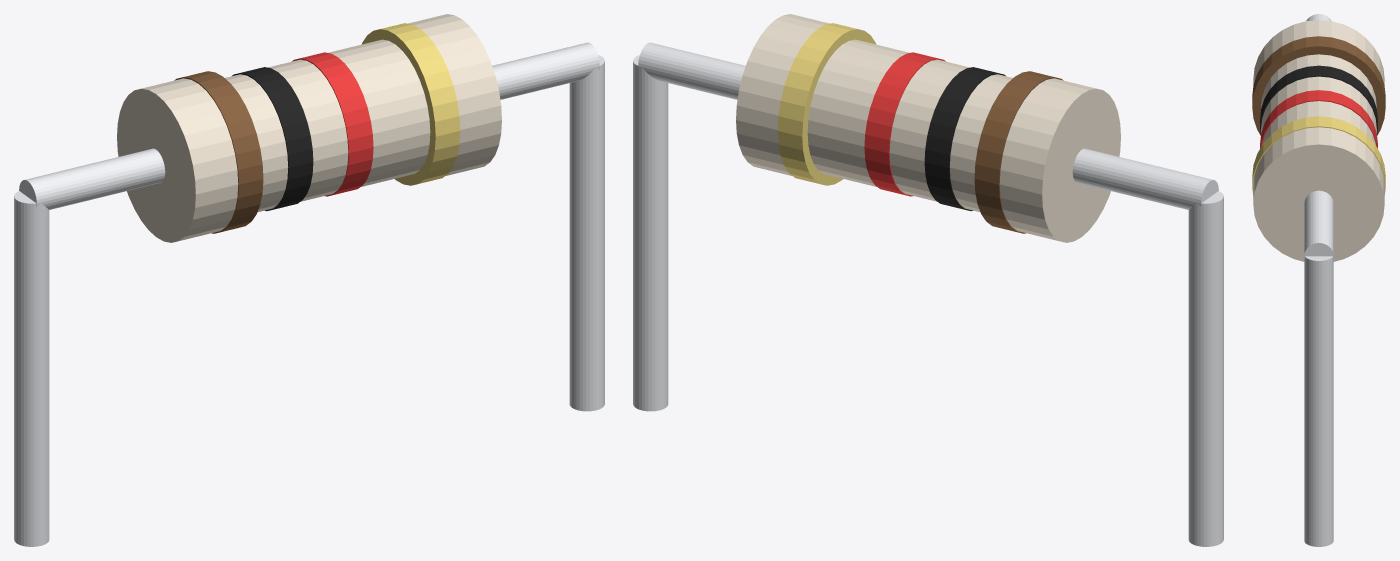
The model's file is resistor_1k.glb.
The picture shows the model from 3 angles, left to right: view 1: azimuth 30°, elevation 25°; view 2: azimuth 150°, elevation 25°; view 3: azimuth 270°, elevation 25°; orthographic projection. The views are drawn at different scales.
Parts seen in each view (by area): view 1: Resistor_Body_Mid, Resistor_Body_L, Cylinder.005, Cylinder.007, Resistor_Body_R, Cylinder.003, Cylinder.004, Cylinder, Cylinder.002, Cylinder.001, Cylinder.006; view 2: Resistor_Body_Mid, Resistor_Body_L, Cylinder.005, Cylinder.007, Resistor_Body_R, Cylinder.003, Cylinder.004, Cylinder, Cylinder.002, Cylinder.001, Cylinder.006; view 3: Resistor_Body_R, Cylinder.007, Resistor_Body_Mid, Cylinder, Resistor_Body_L, Cylinder.006, Cylinder.003, Cylinder.001, Cylinder.002.
Boxes of the visible parts, left/top/right/bottom form: Resistor_Body_Mid: left=225, top=39, right=430, bottom=211; Resistor_Body_L: left=117, top=78, right=238, bottom=242; Cylinder.005: left=14, top=191, right=49, bottom=546; Cylinder.007: left=569, top=55, right=604, bottom=411; Resistor_Body_R: left=408, top=14, right=501, bottom=175; Cylinder.003: left=361, top=23, right=460, bottom=185; Cylinder.004: left=19, top=148, right=165, bottom=209; Cylinder: left=174, top=71, right=263, bottom=233; Cylinder.002: left=292, top=52, right=373, bottom=196; Cylinder.001: left=232, top=67, right=313, bottom=211; Cylinder.006: left=492, top=42, right=599, bottom=99; Resistor_Body_Mid: left=807, top=39, right=1012, bottom=211; Resistor_Body_L: left=999, top=78, right=1120, bottom=242; Cylinder.005: left=1188, top=191, right=1223, bottom=546; Cylinder.007: left=633, top=55, right=668, bottom=411; Resistor_Body_R: left=736, top=14, right=829, bottom=175; Cylinder.003: left=777, top=23, right=876, bottom=185; Cylinder.004: left=1072, top=148, right=1218, bottom=209; Cylinder: left=974, top=71, right=1063, bottom=233; Cylinder.002: left=864, top=52, right=945, bottom=196; Cylinder.001: left=924, top=67, right=1005, bottom=211; Cylinder.006: left=638, top=42, right=745, bottom=99; Resistor_Body_R: left=1253, top=127, right=1384, bottom=261; Cylinder.007: left=1304, top=256, right=1333, bottom=546; Resistor_Body_Mid: left=1261, top=54, right=1376, bottom=144; Cylinder: left=1252, top=36, right=1385, bottom=134; Resistor_Body_L: left=1253, top=20, right=1384, bottom=84; Cylinder.006: left=1304, top=190, right=1333, bottom=257; Cylinder.003: left=1252, top=116, right=1385, bottom=195; Cylinder.001: left=1260, top=65, right=1377, bottom=135; Cylinder.002: left=1260, top=90, right=1377, bottom=148.
Bounding box in the file's own units: 0.0107 × 0.00727 × 0.00254.
